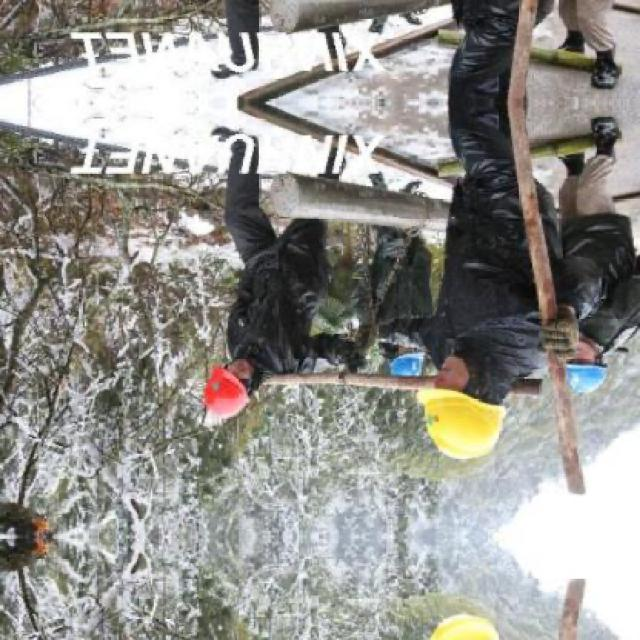con casco: (402, 372, 522, 458), (174, 366, 270, 414), (563, 363, 608, 389)
